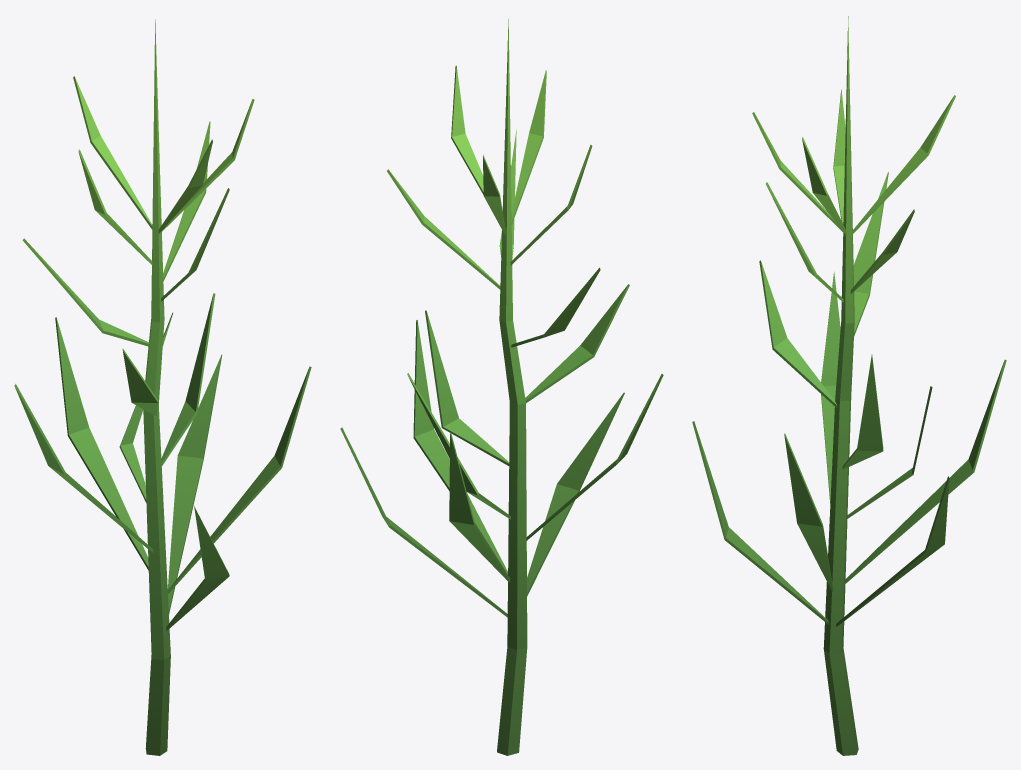
Rendered from Plant2.fbx.
The picture shows the model from 3 angles, left to right: view 1: azimuth 30°, elevation 25°; view 2: azimuth 150°, elevation 25°; view 3: azimuth 270°, elevation 25°; orthographic projection.
Parts seen in each view (by area): view 1: Plant_2_Cylinder.020; view 2: Plant_2_Cylinder.020; view 3: Plant_2_Cylinder.020.
Part boxes in pixels (<box>): Plant_2_Cylinder.020: <box>14,19,311,755</box>; Plant_2_Cylinder.020: <box>340,19,663,755</box>; Plant_2_Cylinder.020: <box>692,16,1006,755</box>.
Size of the model in its own units: 68.59 by 177 by 68.59.
